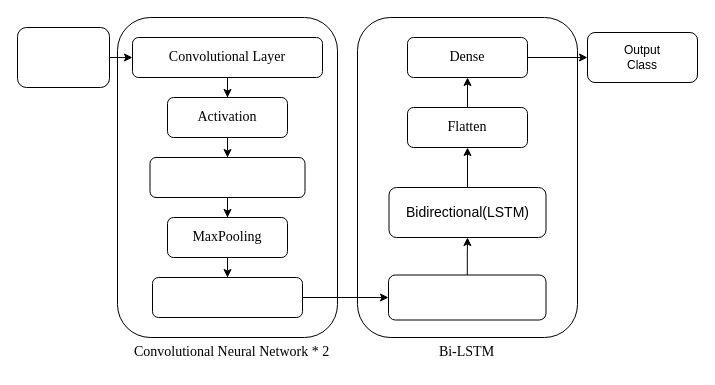
The diagram is 715 pixels wide and 385 high, and some of its shapes have lost their labels. Here are the shapes that lost their labels. From the top down, the box of each, then its label:
(16, 26, 110, 88): Input Signal
(149, 156, 305, 198): Batch Normalization
(152, 276, 302, 318): DroupOut
(388, 274, 546, 320): TimeDistributed(Flatten)
